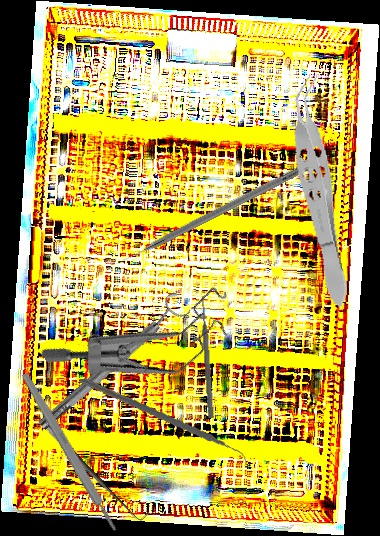Chopper: (78, 359, 251, 488)
Fixation Ring: (30, 290, 194, 437)
Hook Surgical: (116, 158, 315, 266), (37, 410, 150, 526)
Pusher: (198, 295, 216, 419)
Scalpel Handle: (19, 371, 120, 534)
Speculum: (37, 234, 250, 437)
Tissue Forceps: (281, 70, 359, 311)
